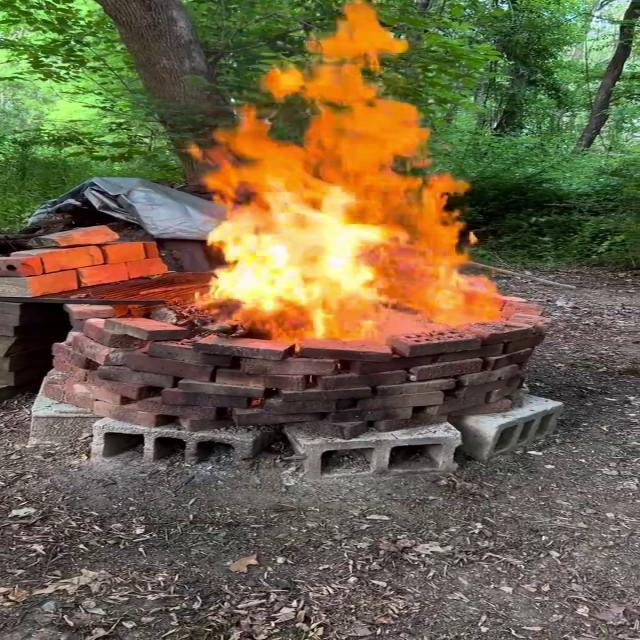Fire: (181, 1, 521, 346)
